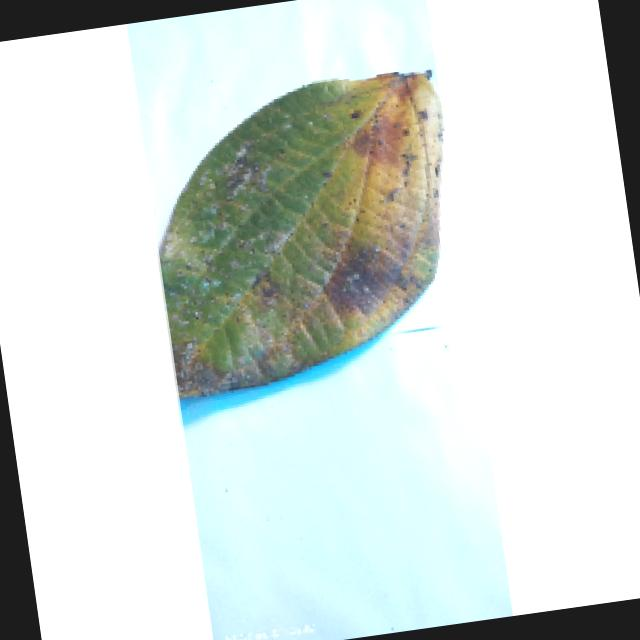slow-decline: (141, 61, 482, 398)
